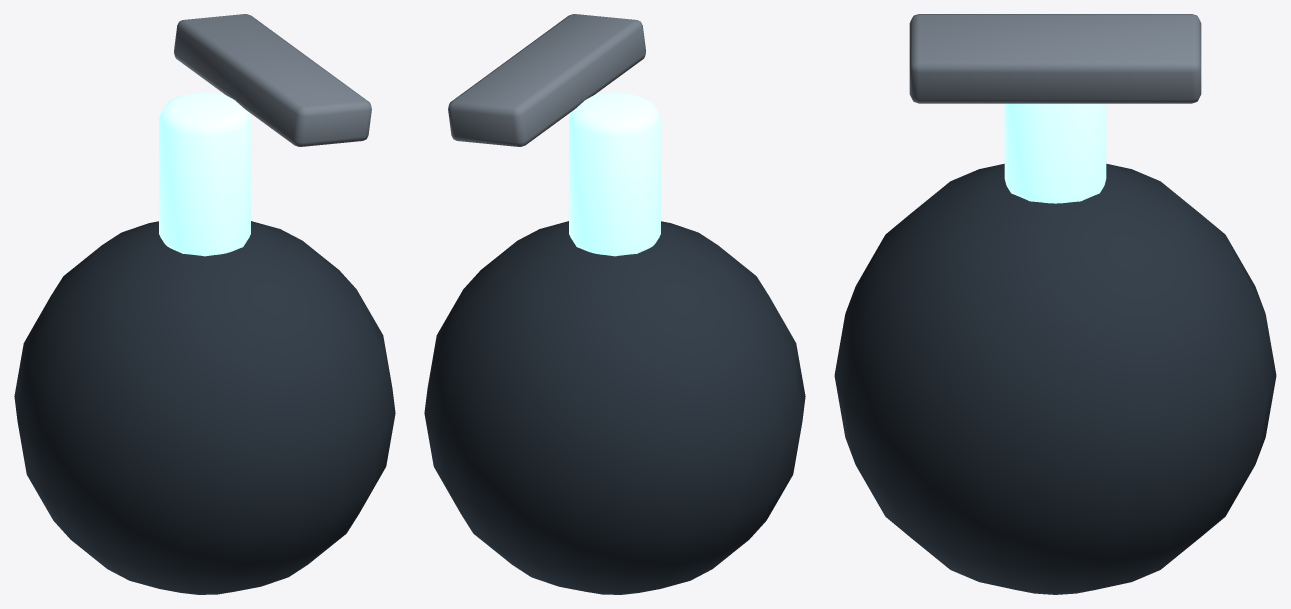
File: Pathfinder_ImpactNitron.fbx
The picture shows the model from 3 angles, left to right: view 1: azimuth 30°, elevation 25°; view 2: azimuth 150°, elevation 25°; view 3: azimuth 270°, elevation 25°; orthographic projection. The views are drawn at different scales.
Visible parts, largest first — view 1: Core, SafetyLever, Fuse; view 2: Core, SafetyLever, Fuse; view 3: Core, SafetyLever, Fuse.
Boxes of the visible parts, box(x1,y1,x2,y2) form: Core: box(14, 221, 395, 594); SafetyLever: box(174, 14, 371, 146); Fuse: box(159, 92, 250, 256); Core: box(424, 221, 805, 594); SafetyLever: box(448, 14, 645, 146); Fuse: box(569, 92, 660, 256); Core: box(834, 163, 1276, 594); SafetyLever: box(909, 14, 1201, 103); Fuse: box(1004, 103, 1106, 203).
Bounding box in the file's own units: 88 × 128 × 88.
